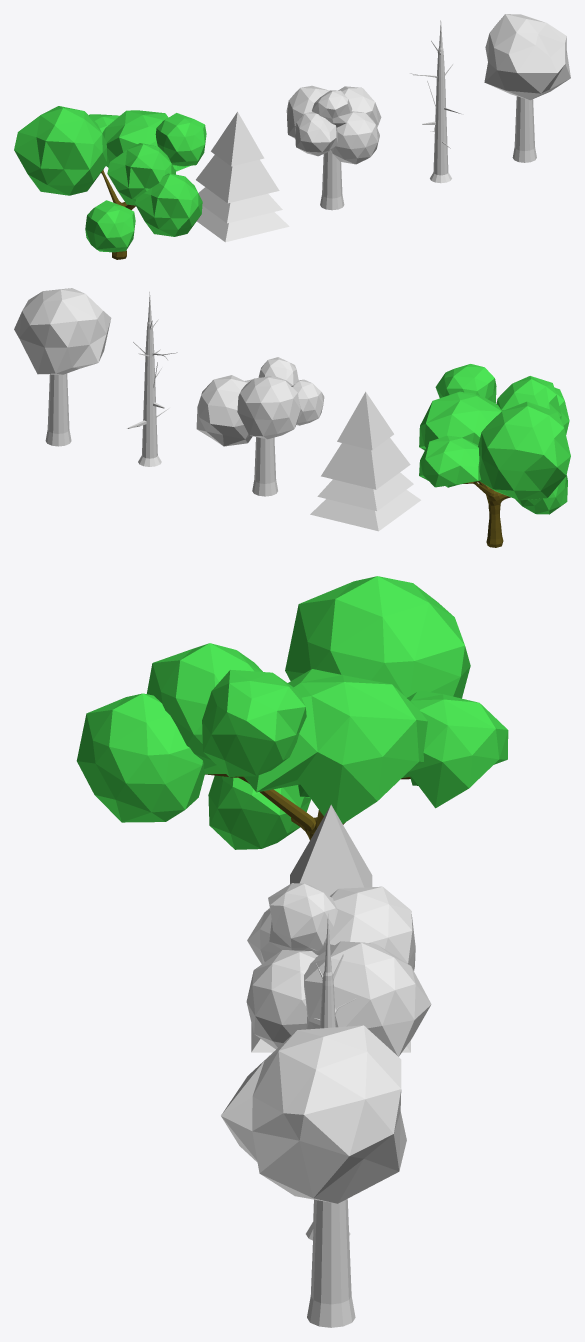
Rendered from Trees.fbx.
3 renders of one model, top to bottom at view 1: azimuth 30°, elevation 25°; view 2: azimuth 150°, elevation 25°; view 3: azimuth 270°, elevation 25°, orthographic. The views are drawn at different scales.
Visible parts, largest first — view 1: Drzewo5, Drzewo3, Drzewo4, Drzewo1, Drzewo2; view 2: Drzewo5, Drzewo3, Drzewo4, Drzewo1, Drzewo2; view 3: Drzewo5, Drzewo1, Drzewo3, Drzewo4, Drzewo2.
Part boxes in pixels (x1=…): Drzewo5: x1=14, y1=106, x2=206, y2=259; Drzewo3: x1=286, y1=85, x2=381, y2=210; Drzewo4: x1=196, y1=112, x2=289, y2=242; Drzewo1: x1=484, y1=14, x2=570, y2=162; Drzewo2: x1=410, y1=20, x2=460, y2=183; Drzewo5: x1=419, y1=364, x2=570, y2=547; Drzewo3: x1=196, y1=357, x2=324, y2=496; Drzewo4: x1=310, y1=391, x2=420, y2=531; Drzewo1: x1=14, y1=288, x2=111, y2=446; Drzewo2: x1=127, y1=292, x2=177, y2=466; Drzewo5: x1=76, y1=576, x2=508, y2=849; Drzewo1: x1=221, y1=1025, x2=406, y2=1327; Drzewo3: x1=246, y1=883, x2=431, y2=1056; Drzewo4: x1=251, y1=804, x2=410, y2=1052; Drzewo2: x1=306, y1=914, x2=356, y2=1240.
Bounding box in the file's own units: 3768 × 1103 × 1339.
